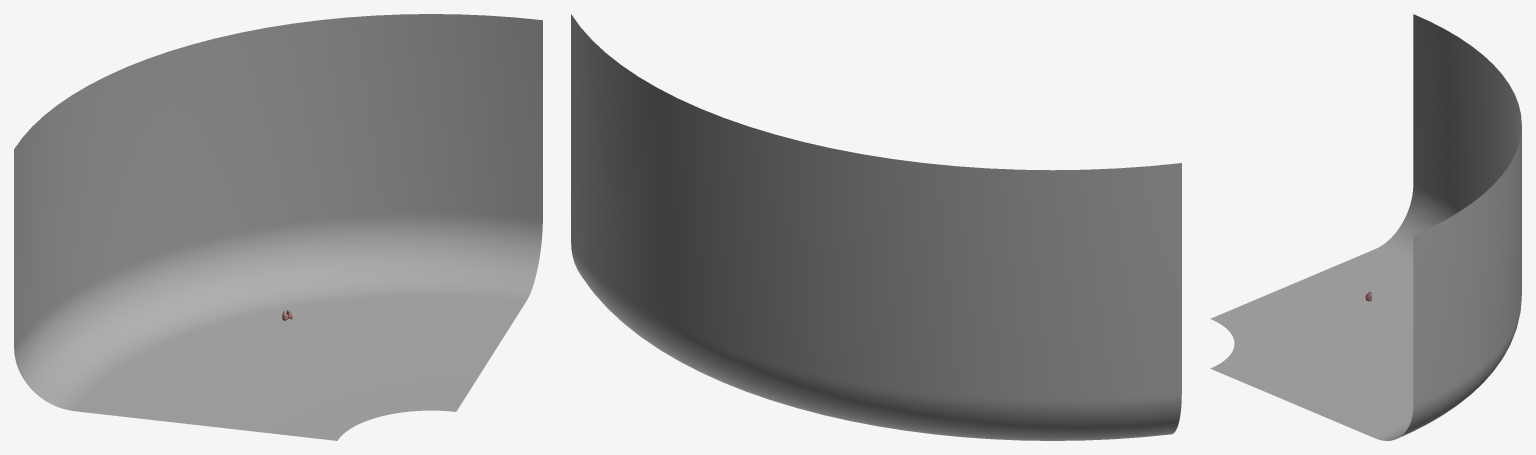
The model's file is lung.fbx.
3 renders of one model, left to right at view 1: azimuth 30°, elevation 25°; view 2: azimuth 150°, elevation 25°; view 3: azimuth 270°, elevation 25°, orthographic. The views are drawn at different scales.
Visible parts, largest first — view 1: Studio; view 2: Studio; view 3: Studio.
Boxes of the visible parts, x1=… form: Studio: x1=14, y1=14, x2=542, y2=440; Studio: x1=571, y1=14, x2=1181, y2=440; Studio: x1=1210, y1=14, x2=1521, y2=440.
Size of the model in its own units: 1634 by 753 by 972.
Materials: 2 (1 with a texture image).
